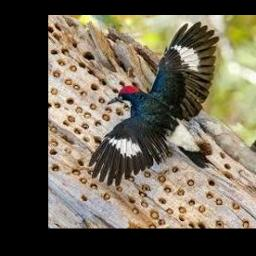Woodpecker: (88, 22, 219, 186)
